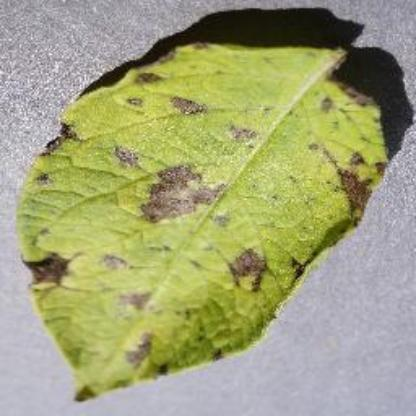Early-Blight: (16, 37, 392, 402)
